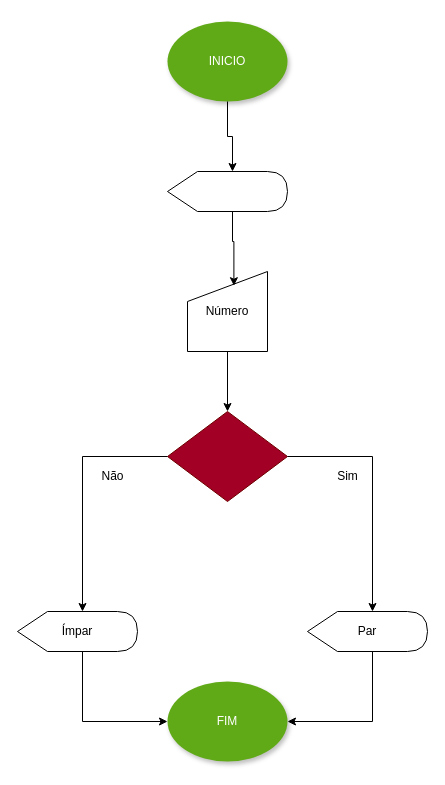
This 445x785 diagram has some shape labels left out. The centre of each missing label's shape, as x and y in pixels:
"Digite o número" goes at point 227,191.
"O número é par?" goes at point 227,456.
